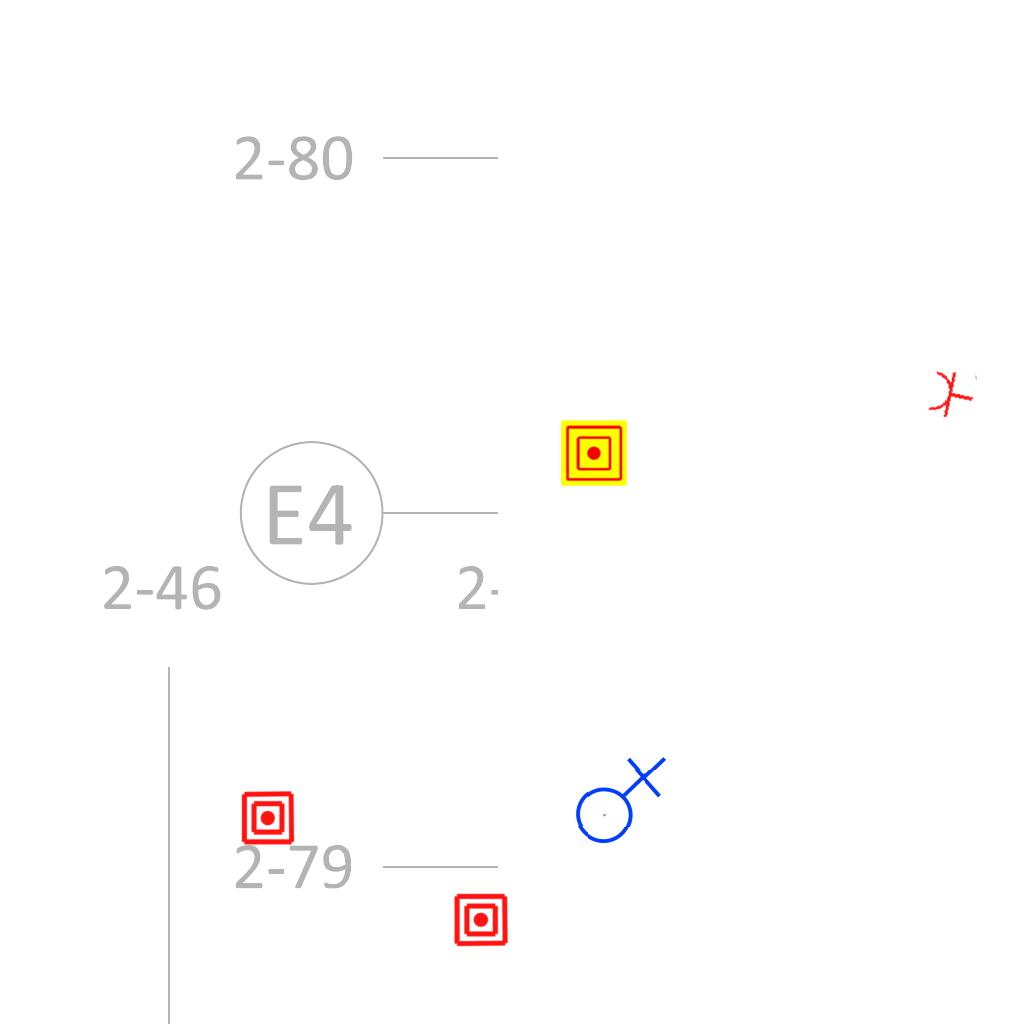Elektroanschluss_allgemein_230V_Geraeteanschlussdose_230V: (566, 750, 667, 846)
NAM-Nichtautomatischer_Melder: (561, 420, 627, 486), (453, 892, 509, 948), (240, 790, 296, 846)
Schukosteckdose_einfach: (926, 365, 979, 423)
